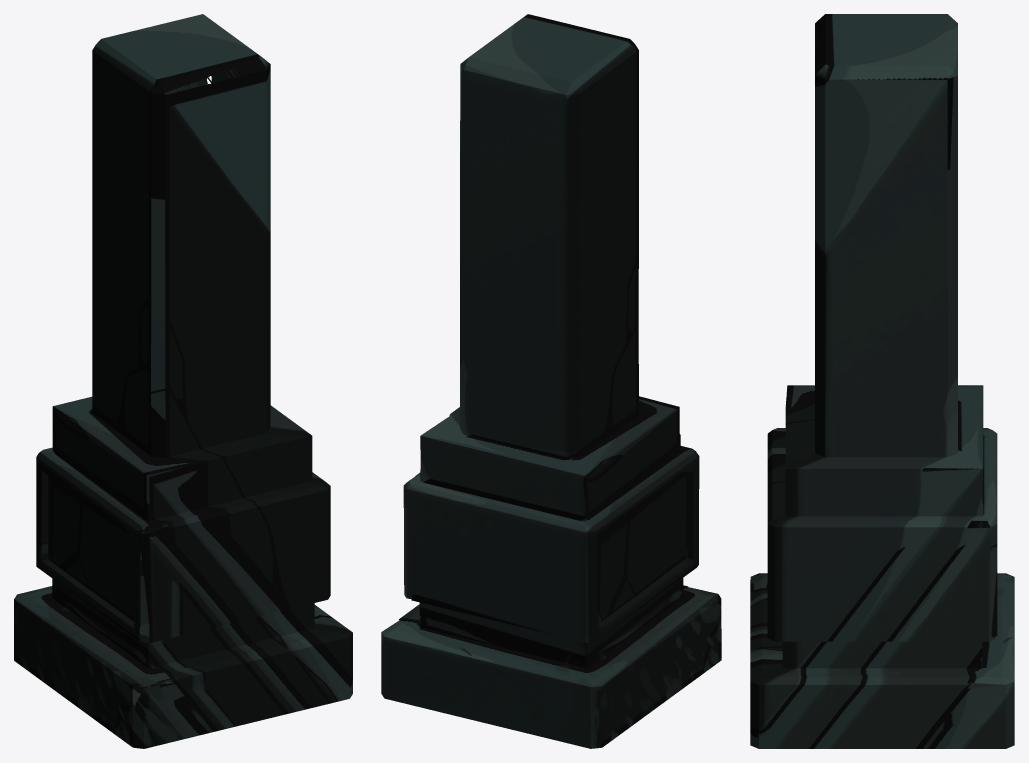
File: pillar.fbx
3 views of the same model, side by side, from view 1: azimuth 30°, elevation 25°; view 2: azimuth 150°, elevation 25°; view 3: azimuth 270°, elevation 25° (orthographic). The views are drawn at different scales.
Parts seen in each view (by area): view 1: Cube.015; view 2: Cube.015; view 3: Cube.015.
Part boxes in pixels (box(x1,y1,x2,y2)): Cube.015: box(14, 14, 352, 748); Cube.015: box(381, 14, 721, 748); Cube.015: box(750, 14, 1014, 748).
Bounding box in the file's own units: 200 × 546 × 200.
